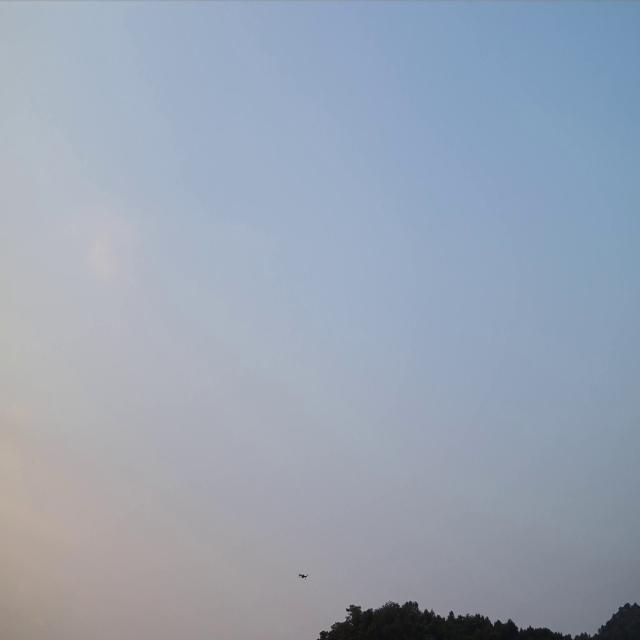UAV: (297, 573, 309, 581)
